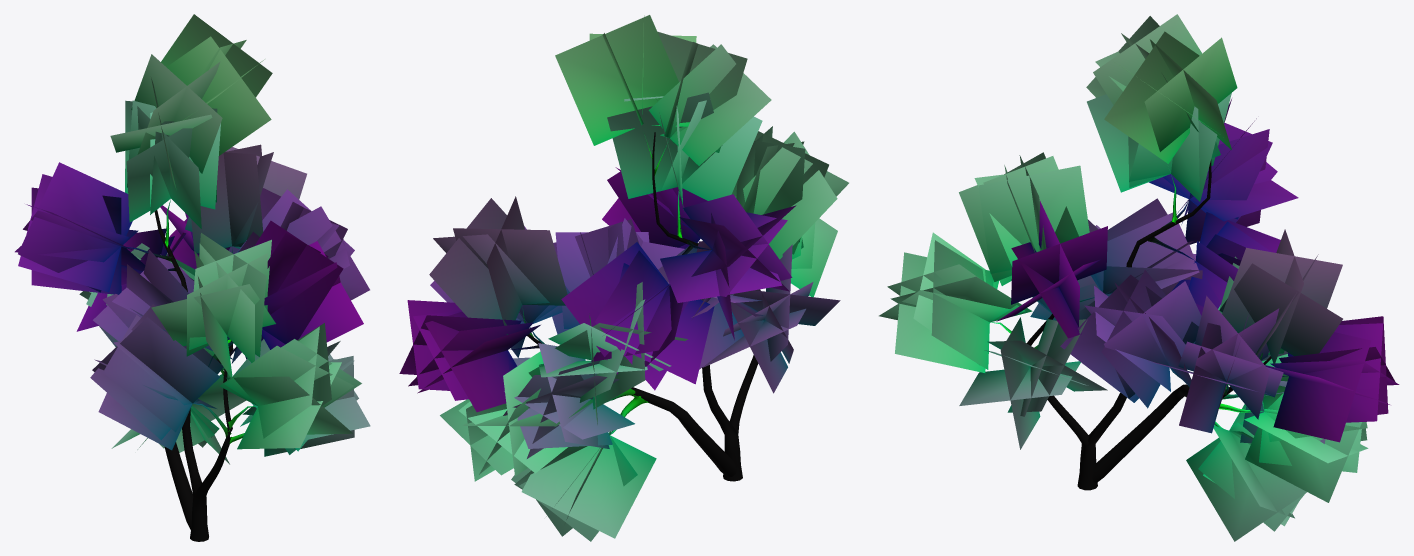
File: M_P6_Tree_7.fbx
3 renders of one model, left to right at view 1: azimuth 30°, elevation 25°; view 2: azimuth 150°, elevation 25°; view 3: azimuth 270°, elevation 25°, orthographic. The views are drawn at different scales.
Visible parts, largest first — view 1: Tree_7; view 2: Tree_7; view 3: Tree_7.
Boxes of the visible parts, x1,y1,x2,y2 form: Tree_7: (15, 14, 370, 541); Tree_7: (399, 15, 848, 541); Tree_7: (879, 14, 1399, 541).
Bounding box in the file's own units: 617 × 811 × 792.
